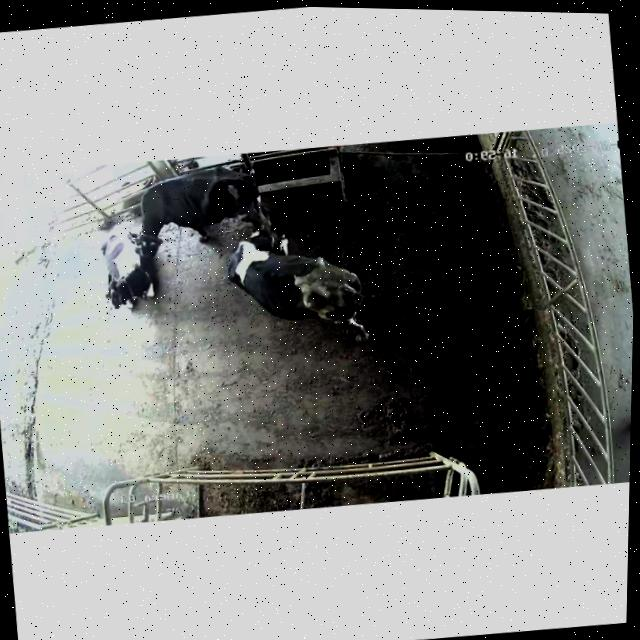stand: (200, 216, 393, 359), (119, 157, 277, 267)
